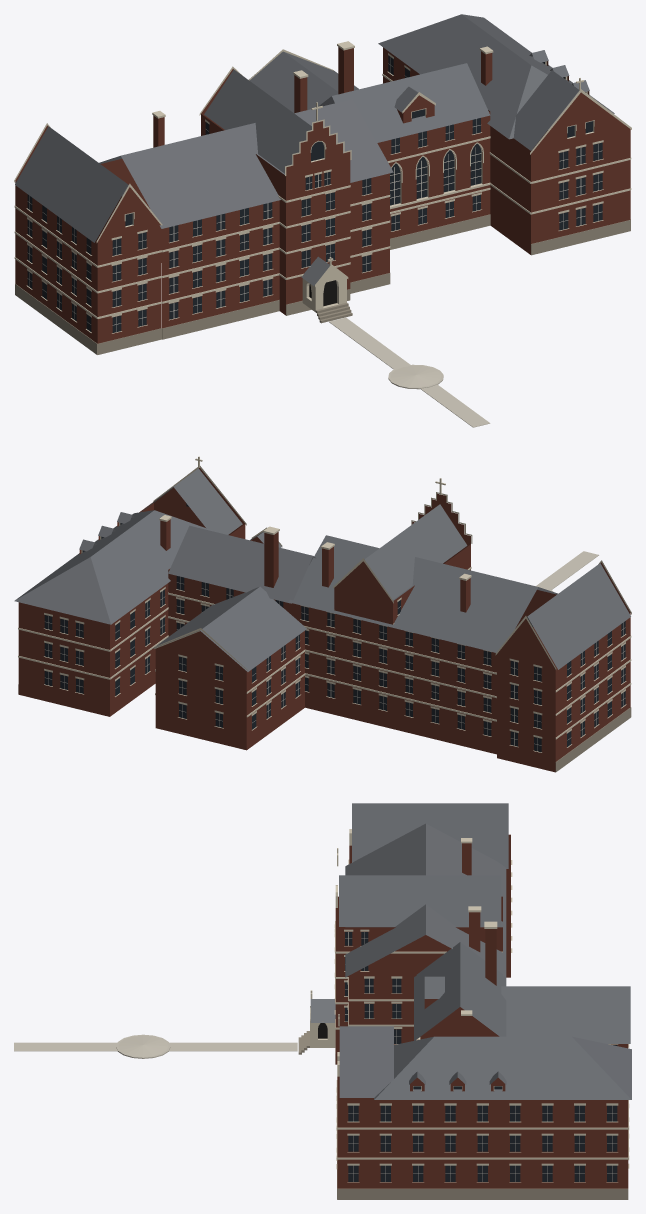
The model's file is mount-st-mary-academy-1908.glb.
The picture shows the model from 3 angles, top to bottom: view 1: azimuth 30°, elevation 25°; view 2: azimuth 150°, elevation 25°; view 3: azimuth 270°, elevation 25°; orthographic projection. The views are drawn at different scales.
Parts seen in each view (by area): view 1: mount_brick, mount_slate, mount_glass, mount_trim, mount_base, mount_walk, mount_sash, mount_brick2; view 2: mount_brick, mount_slate, mount_glass, mount_trim, mount_sash, mount_base, mount_walk, mount_brick2; view 3: mount_slate, mount_brick, mount_glass, mount_trim, mount_base, mount_walk, mount_sash, mount_brick2, mount_slate2.
Boxes of the visible parts, x1,y1,x2,y2 form: mount_brick: (15,47,630,343); mount_slate: (15,14,614,242); mount_glass: (27,55,602,332); mount_trim: (14,41,631,333); mount_base: (15,214,630,354); mount_walk: (329,317,490,427); mount_sash: (27,57,602,331); mount_brick2: (338,47,353,94); mount_brick: (18,468,630,772); mount_slate: (14,468,630,671); mount_glass: (44,503,625,752); mount_trim: (18,456,631,752); mount_sash: (45,577,625,751); mount_base: (18,684,631,772); mount_walk: (535,551,598,591); mount_brick2: (264,532,278,587); mount_slate: (339,803,631,1099); mount_brick: (335,834,628,1188); mount_glass: (345,932,617,1181); mount_trim: (310,829,629,1182); mount_base: (298,1031,628,1199); mount_walk: (14,1034,297,1058); mount_sash: (345,932,616,1181); mount_brick2: (485,929,496,985); mount_slate2: (310,999,335,1022).
Bounding box in the file's own units: 74.7 × 27.45 × 76.45.
